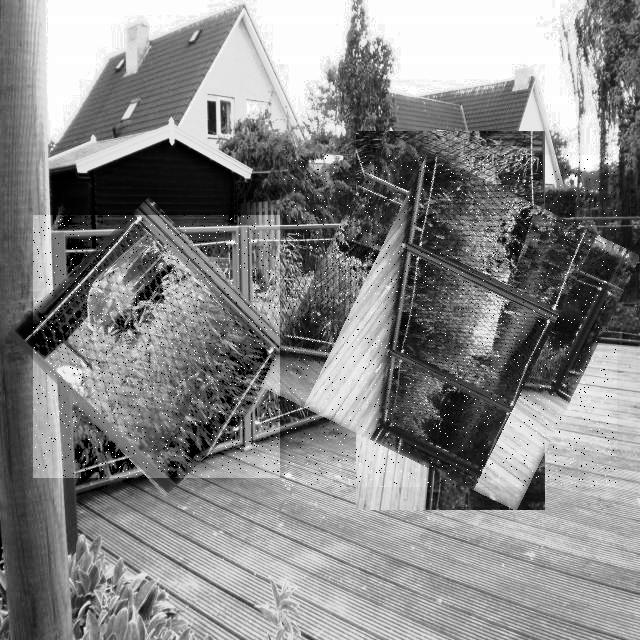fences: (284, 155, 617, 487), (33, 215, 280, 478)
